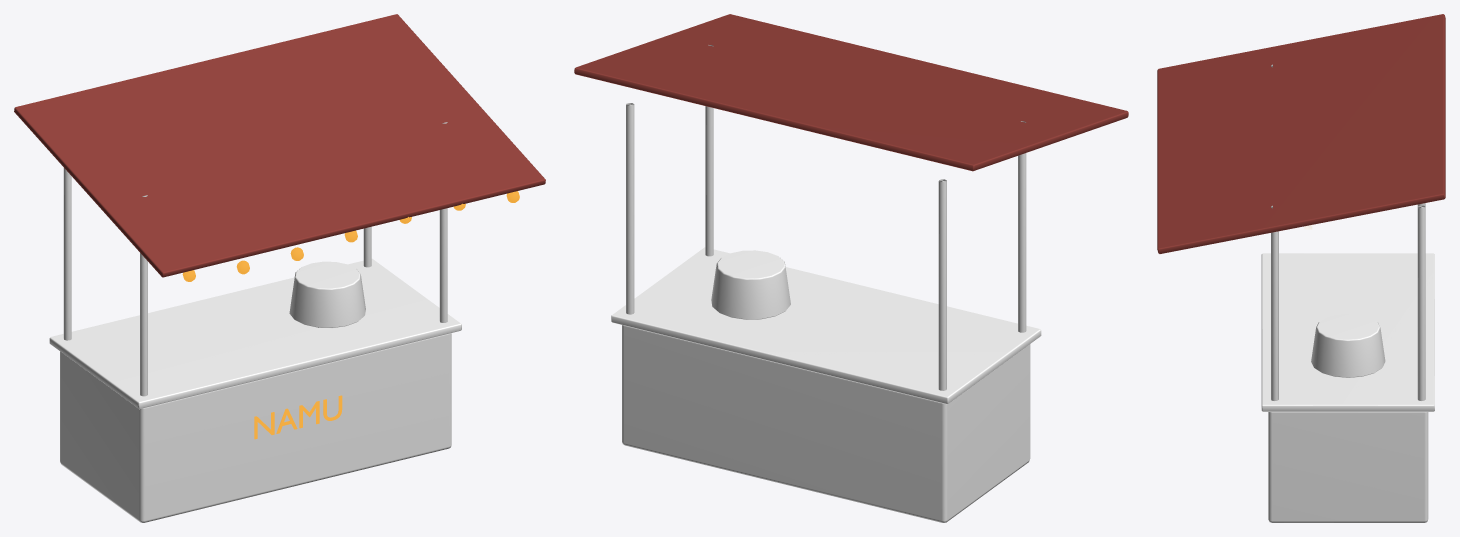
Rendered from stall.glb.
3 views of the same model, side by side, from view 1: azimuth 30°, elevation 25°; view 2: azimuth 150°, elevation 25°; view 3: azimuth 270°, elevation 25° (orthographic). The views are drawn at different scales.
Visible parts, largest first — view 1: stall_awning, stall_counter, stall_top, stall_pot, stall_post.001, stall_post, stall_post.002, stall_text; view 2: stall_counter, stall_awning, stall_top, stall_pot, stall_post.003, stall_post.001, stall_post, stall_post.002; view 3: stall_awning, stall_top, stall_counter, stall_pot, stall_post.003, stall_post.002.
Boxes of the visible parts, x1=… form: stall_awning: x1=14, y1=14, x2=545, y2=277; stall_counter: x1=60, y1=333, x2=451, y2=522; stall_top: x1=49, y1=258, x2=461, y2=409; stall_pot: x1=289, y1=261, x2=365, y2=328; stall_post.001: x1=63, y1=167, x2=71, y2=340; stall_post: x1=140, y1=195, x2=147, y2=396; stall_post.002: x1=439, y1=122, x2=447, y2=322; stall_text: x1=254, y1=395, x2=342, y2=439; stall_counter: x1=622, y1=325, x2=1030, y2=522; stall_awning: x1=574, y1=14, x2=1128, y2=171; stall_top: x1=611, y1=247, x2=1041, y2=404; stall_pot: x1=711, y1=250, x2=790, y2=319; stall_post.003: x1=626, y1=103, x2=634, y2=314; stall_post.001: x1=938, y1=179, x2=946, y2=390; stall_post: x1=1018, y1=121, x2=1026, y2=332; stall_post.002: x1=705, y1=45, x2=713, y2=256; stall_awning: x1=1157, y1=14, x2=1445, y2=253; stall_top: x1=1261, y1=253, x2=1434, y2=411; stall_counter: x1=1268, y1=412, x2=1428, y2=522; stall_pot: x1=1311, y1=313, x2=1385, y2=377; stall_post.003: x1=1417, y1=205, x2=1425, y2=400; stall_post.002: x1=1271, y1=205, x2=1278, y2=400.
Size of the model in its own units: 3.2 by 2.87 by 2.16.
